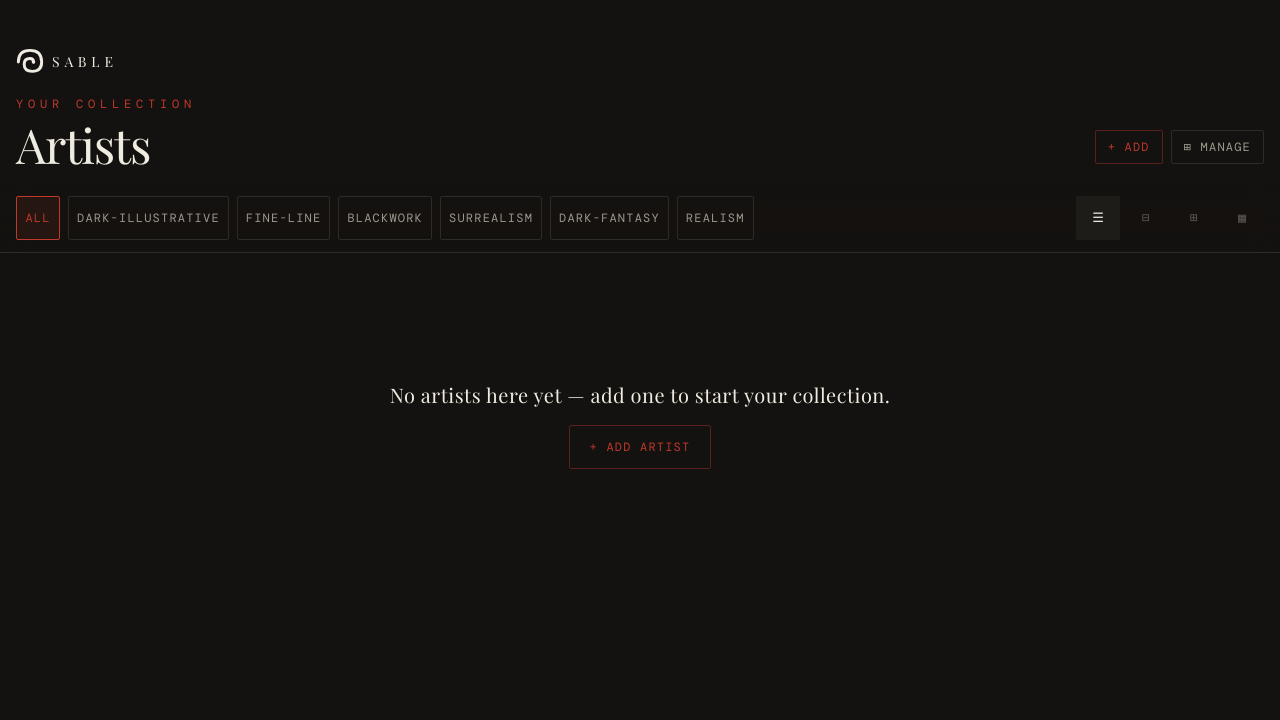
Scenario: Gallery manage mode › greets an empty collection with a way to add the first artist
Check: the text "No artists here yet — add one to start your collection." is shown, box [390,381,890,409]
Click the button "+ Add artist". click: click(640, 447)
box: [569,425,711,469]
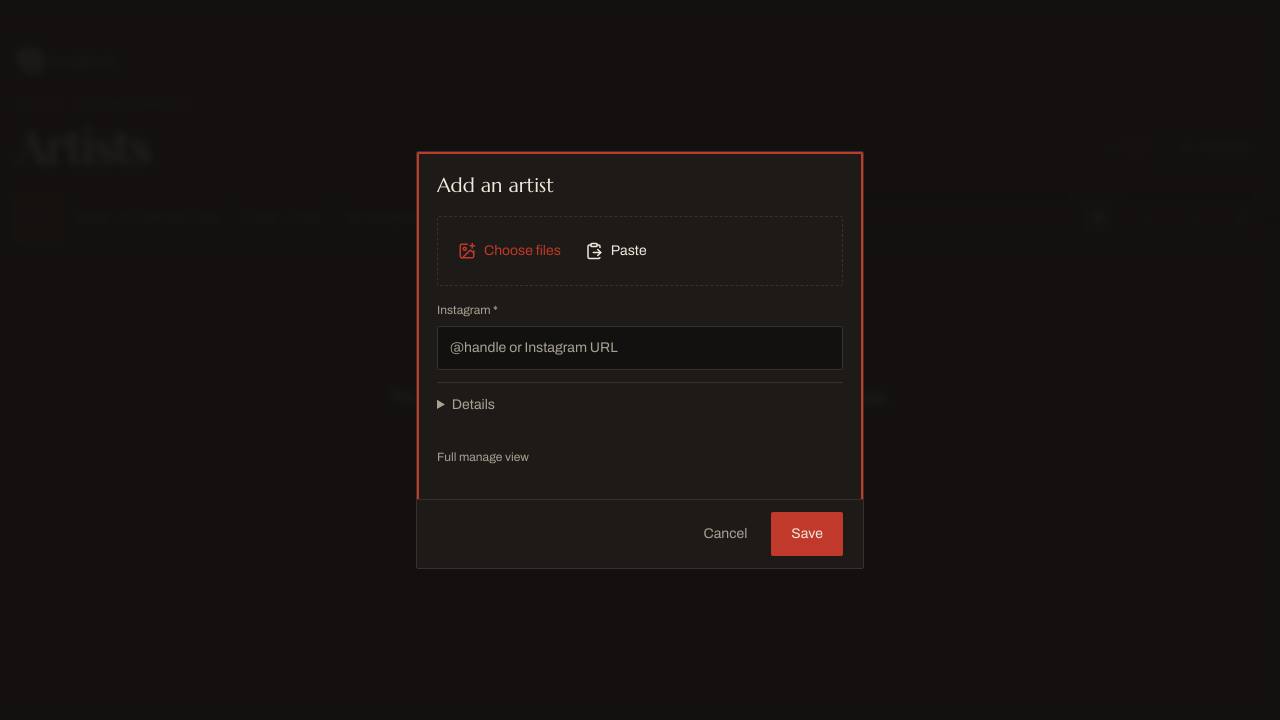
Check: the dialog "Add an artist" is shown, box [416,151,864,569]
